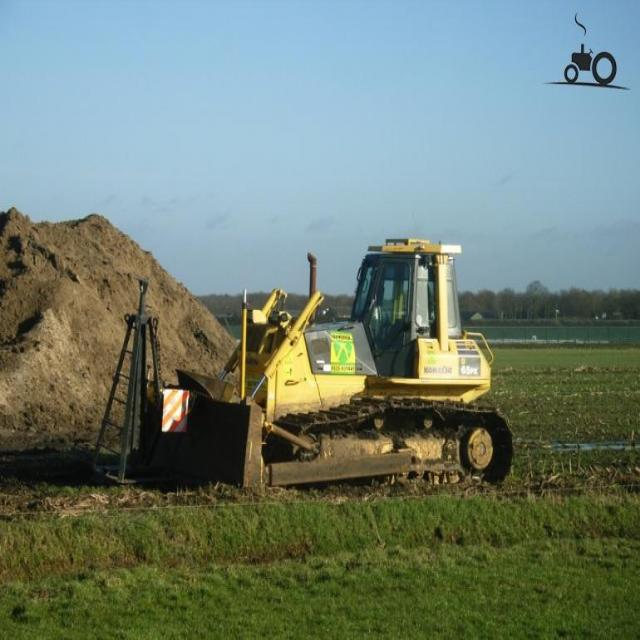Bulldozer: (150, 174, 522, 506)
